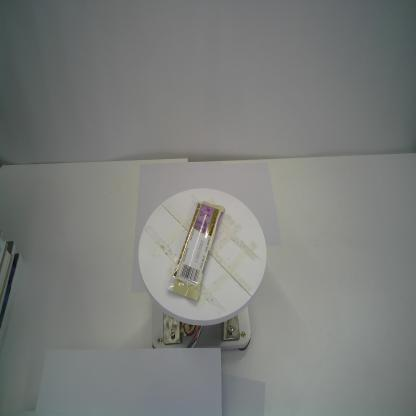Chocolate: (165, 199, 226, 302)
